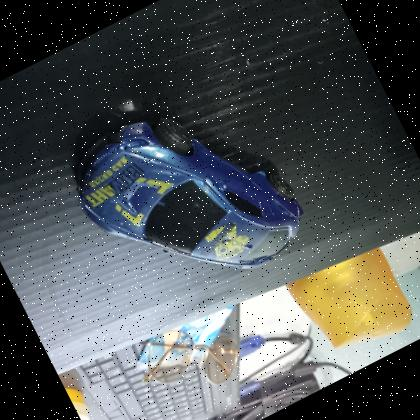Car: (51, 61, 325, 331)
